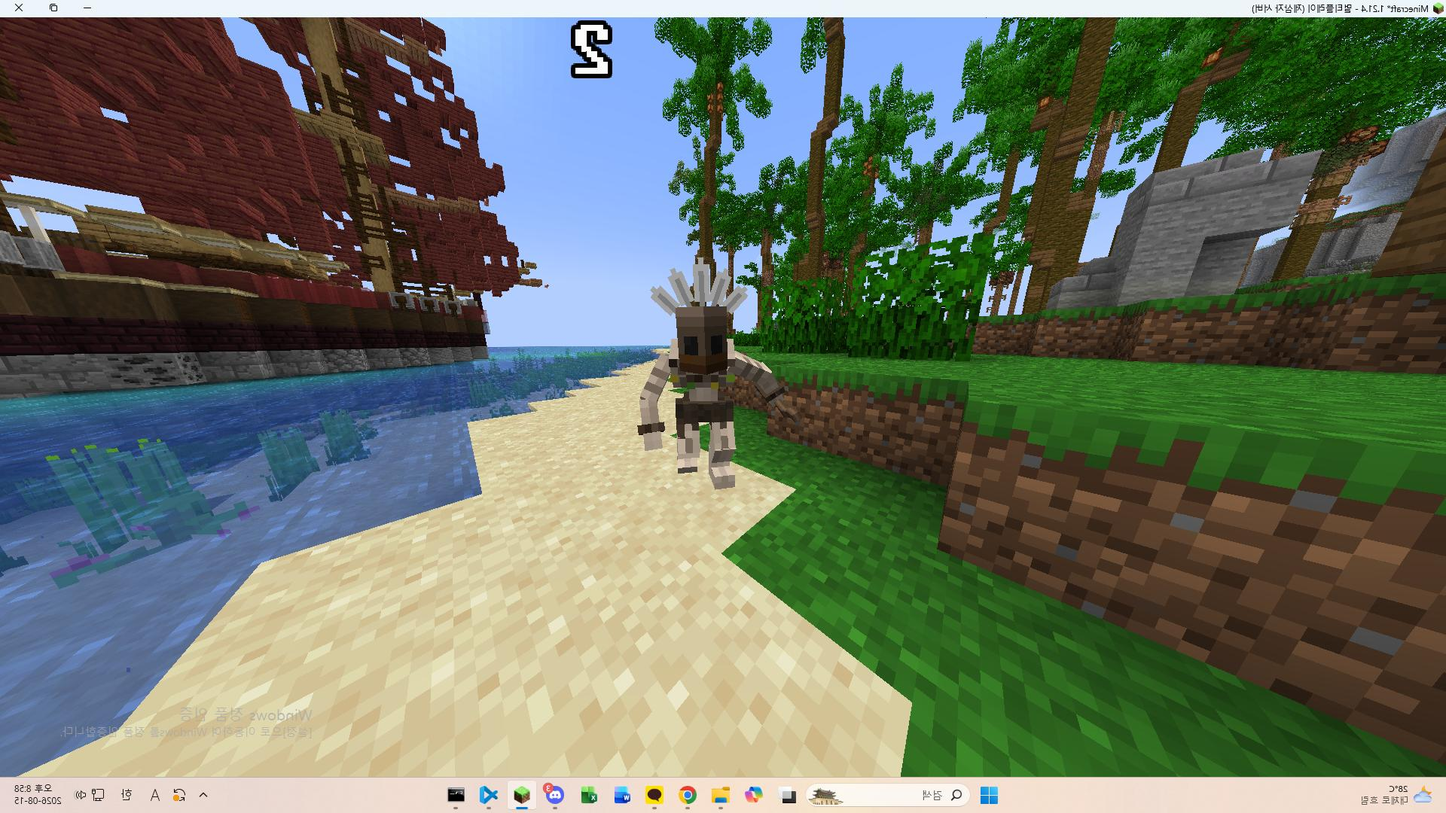bow_indian: (587, 255, 802, 515)
